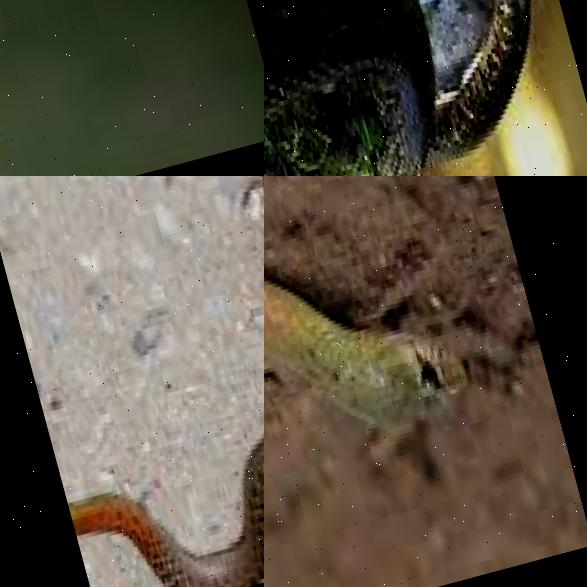snake: (0, 176, 264, 587), (264, 176, 479, 538), (264, 0, 587, 176), (0, 0, 264, 176)
